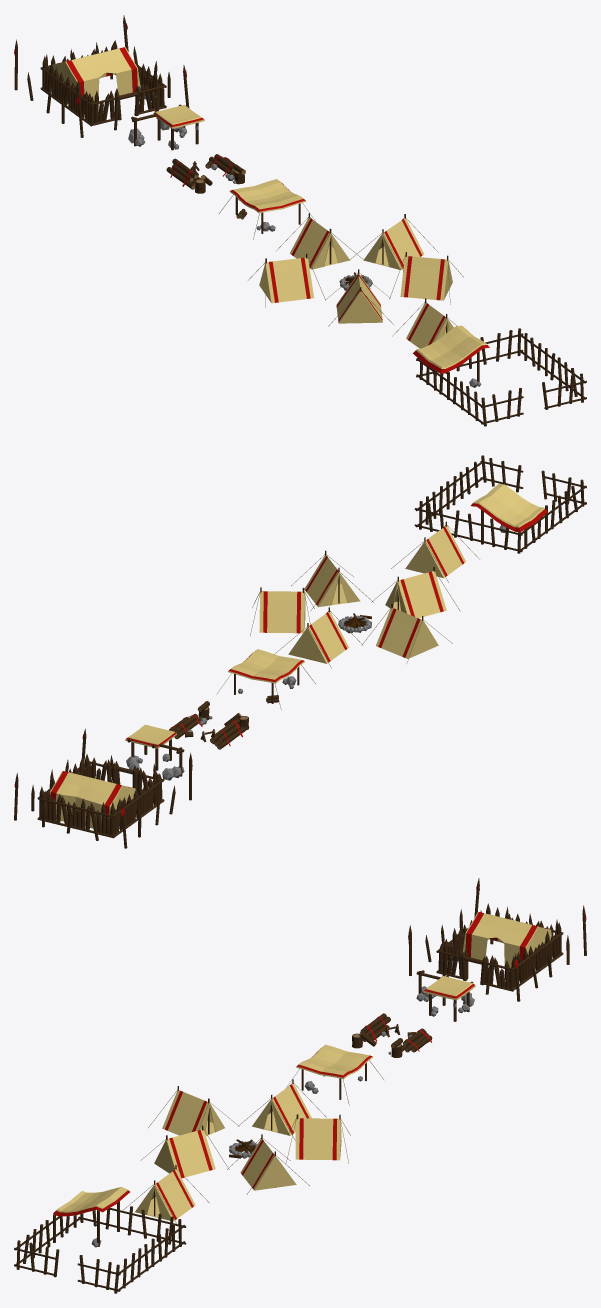
3 renders of one model, top to bottom at view 1: azimuth 30°, elevation 25°; view 2: azimuth 150°, elevation 25°; view 3: azimuth 330°, elevation 25°, orthographic.
Visible parts, largest first — view 1: Plane.040, Plane.013, Plane.023, Plane.041, Plane.028, Plane.008, Plane.018, Plane.030, Plane.001, Plane.039; view 2: Plane.040, Plane.013, Plane.041, Plane.028, Plane.018, Plane.008, Plane.001, Plane.023, Plane.030, Plane.039; view 3: Plane.040, Plane.018, Plane.028, Plane.013, Plane.001, Plane.008, Plane.023, Plane.030, Plane.041, Plane.039.
Boxes of the visible parts, <box> form: Plane.040: <box>51,47,140,103</box>; Plane.013: <box>259,257,313,303</box>; Plane.023: <box>400,256,452,300</box>; Plane.041: <box>413,325,489,373</box>; Plane.028: <box>363,218,424,269</box>; Plane.008: <box>290,217,349,269</box>; Plane.018: <box>336,273,382,323</box>; Plane.030: <box>229,179,306,213</box>; Plane.001: <box>406,302,453,348</box>; Plane.039: <box>153,104,204,128</box>; Plane.040: <box>50,770,136,828</box>; Plane.013: <box>376,608,438,658</box>; Plane.041: <box>471,484,547,532</box>; Plane.028: <box>259,591,305,633</box>; Plane.018: <box>385,571,446,618</box>; Plane.008: <box>288,611,348,663</box>; Plane.001: <box>405,526,465,578</box>; Plane.023: <box>304,555,360,607</box>; Plane.030: <box>228,649,304,683</box>; Plane.039: <box>125,724,176,748</box>; Plane.040: <box>462,911,552,970</box>; Plane.018: <box>154,1129,215,1178</box>; Plane.028: <box>295,1118,341,1160</box>; Plane.013: <box>162,1090,224,1136</box>; Plane.001: <box>135,1169,195,1221</box>; Plane.008: <box>252,1083,311,1135</box>; Plane.023: <box>240,1138,296,1190</box>; Plane.030: <box>296,1044,372,1078</box>; Plane.041: <box>53,1187,129,1216</box>; Plane.039: <box>424,976,475,1000</box>.
Size of the model in its own units: 969 by 263 by 4189.
